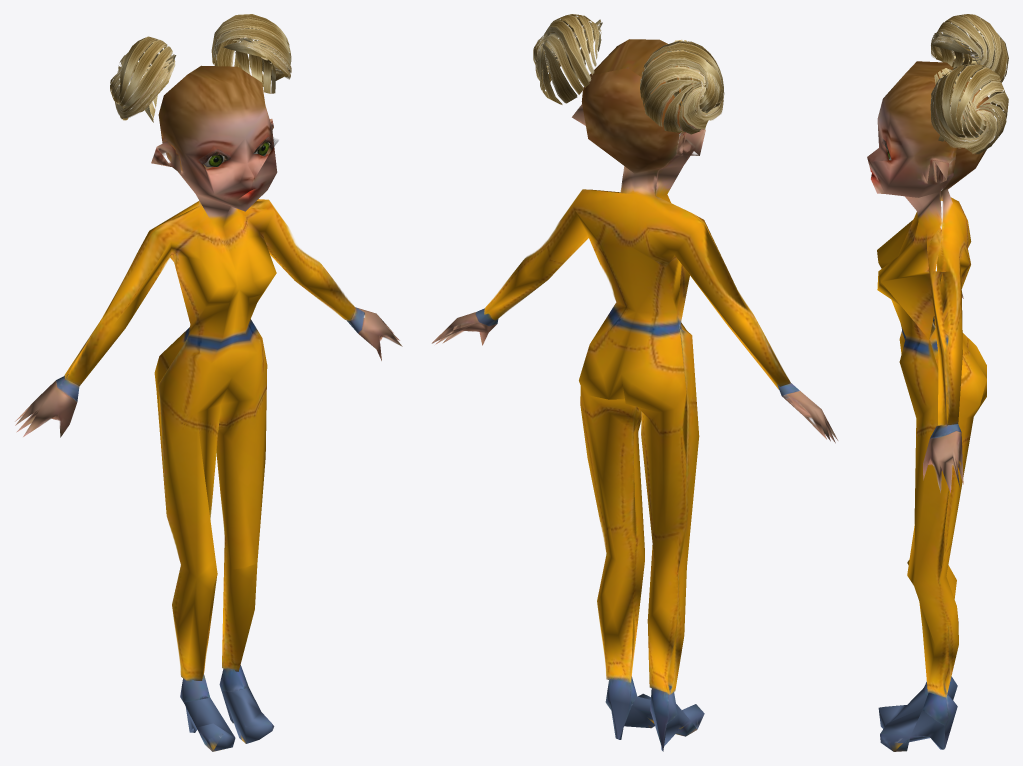
The model's file is girl.glb.
3 renders of one model, left to right at view 1: azimuth 30°, elevation 25°; view 2: azimuth 150°, elevation 25°; view 3: azimuth 270°, elevation 25°, orthographic. The views are drawn at different scales.
Visible parts, largest first — view 1: Body.047, SK_HAIR_PACK07_HAIRSTYLE_04.527; view 2: Body.047, SK_HAIR_PACK07_HAIRSTYLE_04.527; view 3: Body.047, SK_HAIR_PACK07_HAIRSTYLE_04.527.
Part boxes in pixels (x1,y1,x2,y2): Body.047: [15, 65, 402, 751]; SK_HAIR_PACK07_HAIRSTYLE_04.527: [110, 14, 291, 122]; Body.047: [431, 39, 838, 751]; SK_HAIR_PACK07_HAIRSTYLE_04.527: [533, 14, 724, 134]; Body.047: [867, 61, 993, 751]; SK_HAIR_PACK07_HAIRSTYLE_04.527: [930, 14, 1008, 154].
Bounding box in the file's own units: 1.27 × 2.18 × 0.4006.
2 materials, 2 textured.
